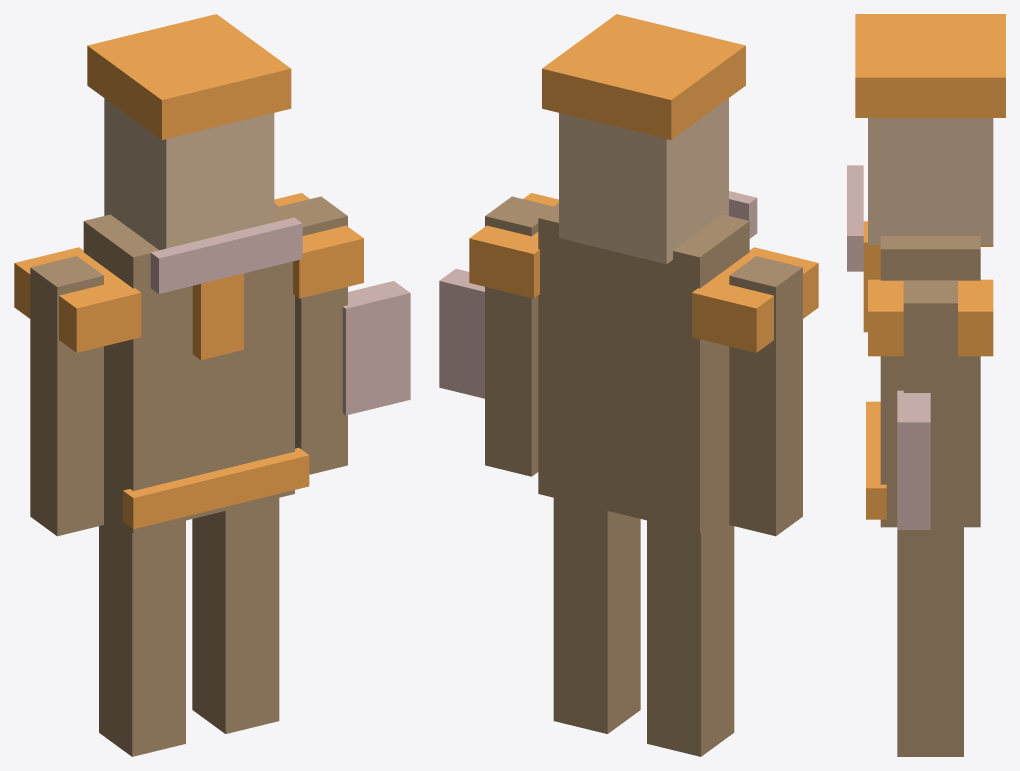
The model's file is 06_elo_riftwalker_custodian_under_watcher.glb.
The picture shows the model from 3 angles, left to right: view 1: azimuth 30°, elevation 25°; view 2: azimuth 150°, elevation 25°; view 3: azimuth 270°, elevation 25°; orthographic projection.
Visible parts, largest first — view 1: Elo Riftwalker, Custodian under Watcher; view 2: Elo Riftwalker, Custodian under Watcher; view 3: Elo Riftwalker, Custodian under Watcher.
Boxes of the visible parts, x1,y1,x2,y2 form: Elo Riftwalker, Custodian under Watcher: [14, 14, 410, 756]; Elo Riftwalker, Custodian under Watcher: [439, 14, 818, 756]; Elo Riftwalker, Custodian under Watcher: [847, 14, 1005, 756].
Size of the model in its own units: 0.9071 by 1.66 by 0.3535.
